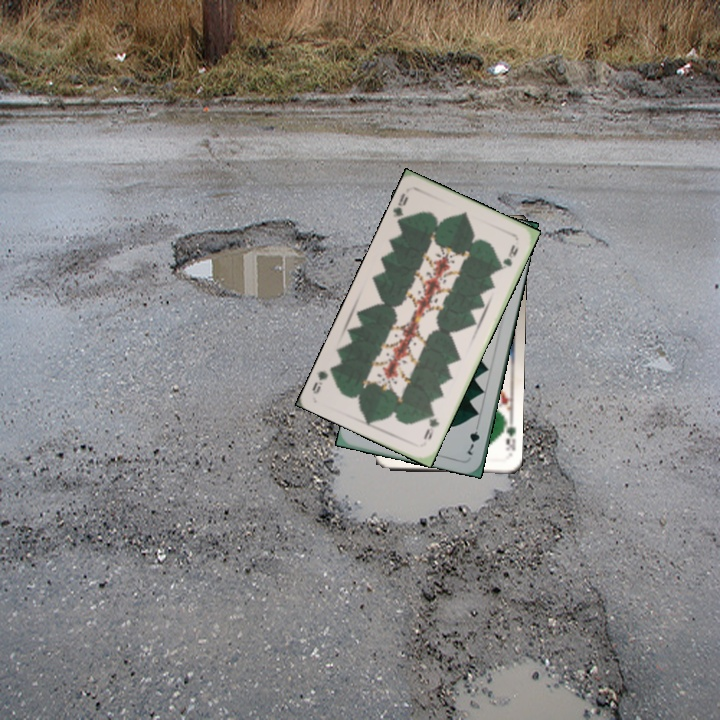G7: (463, 419, 482, 458)
G9: (389, 189, 411, 226), (419, 407, 442, 442)
GK: (499, 418, 518, 453)
